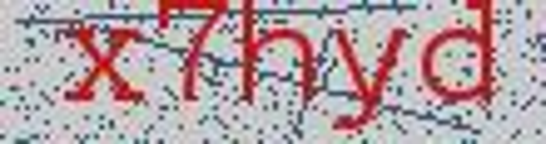7: (149, 1, 233, 122)
d: (416, 2, 502, 118)
h: (237, 1, 320, 122)
x: (62, 18, 146, 118)
y: (327, 20, 408, 141)
